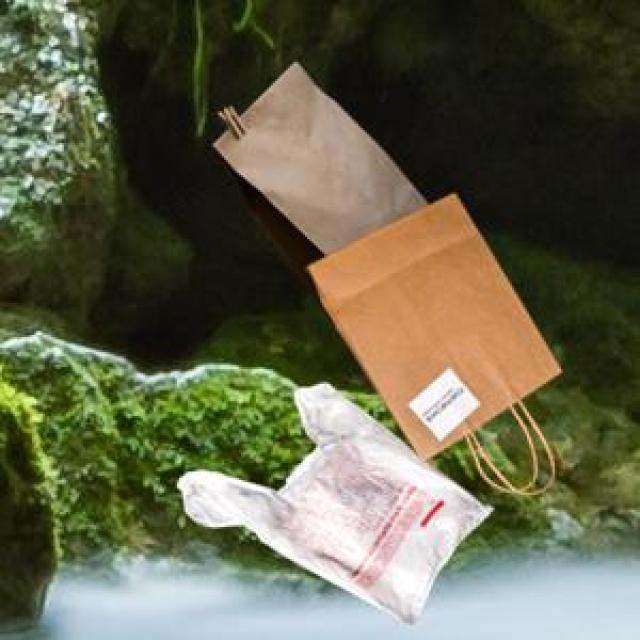paper: (303, 190, 557, 489), (209, 58, 425, 307)
